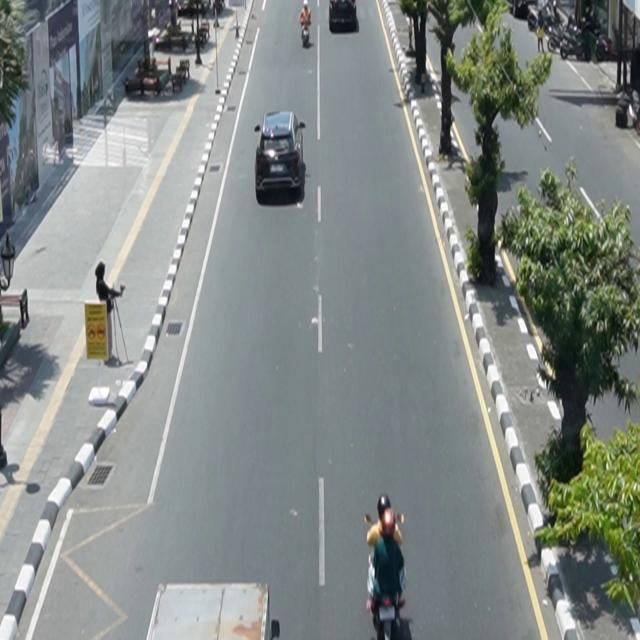car: (255, 111, 307, 200), (329, 1, 358, 32)
